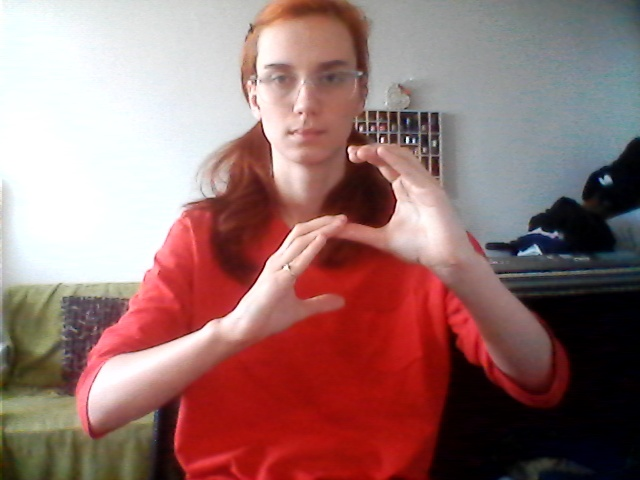s: (261, 140, 467, 355)
